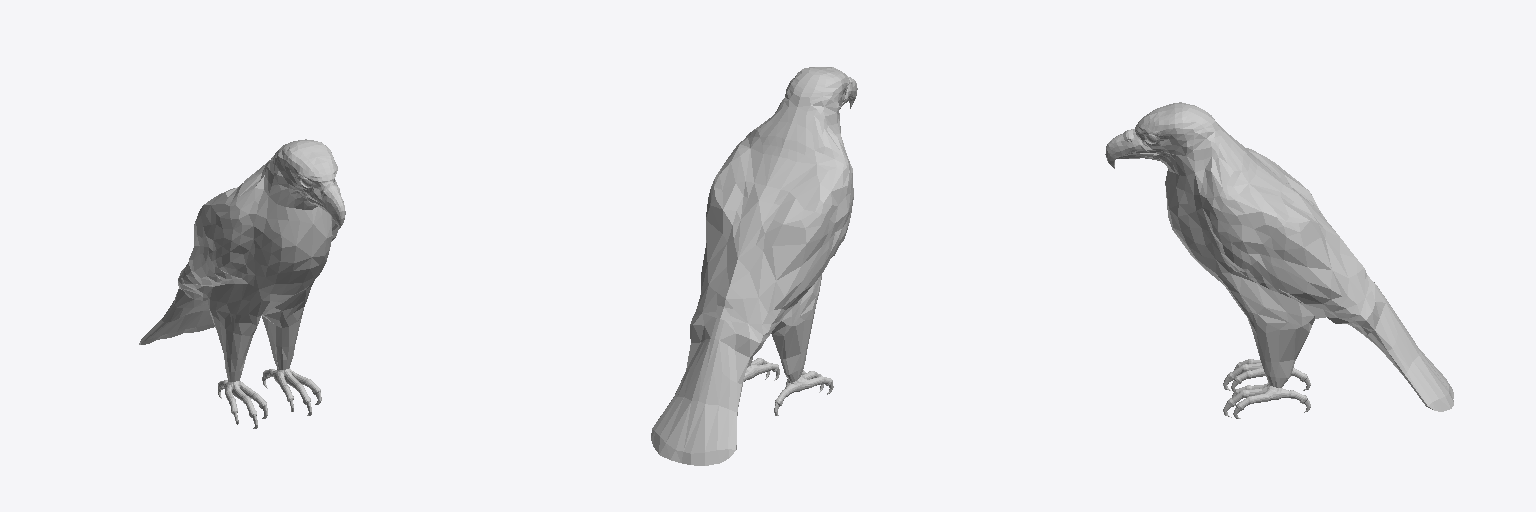
File: EAGLE_3.OBJ
3 views of the same model, side by side, from view 1: azimuth 30°, elevation 25°; view 2: azimuth 150°, elevation 25°; view 3: azimuth 270°, elevation 25° (orthographic).
Parts seen in each view (by area): view 1: eg3_body; view 2: eg3_body; view 3: eg3_body.
Part boxes in pixels (left/top/right/bottom): eg3_body: left=139, top=139, right=345, bottom=428; eg3_body: left=651, top=67, right=857, bottom=465; eg3_body: left=1105, top=102, right=1453, bottom=418.
Bounding box in the file's own units: 0.1131 × 0.2611 × 0.2781.